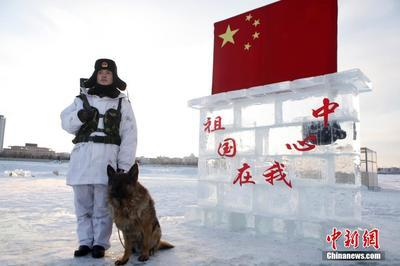up: (53, 57, 133, 258)
